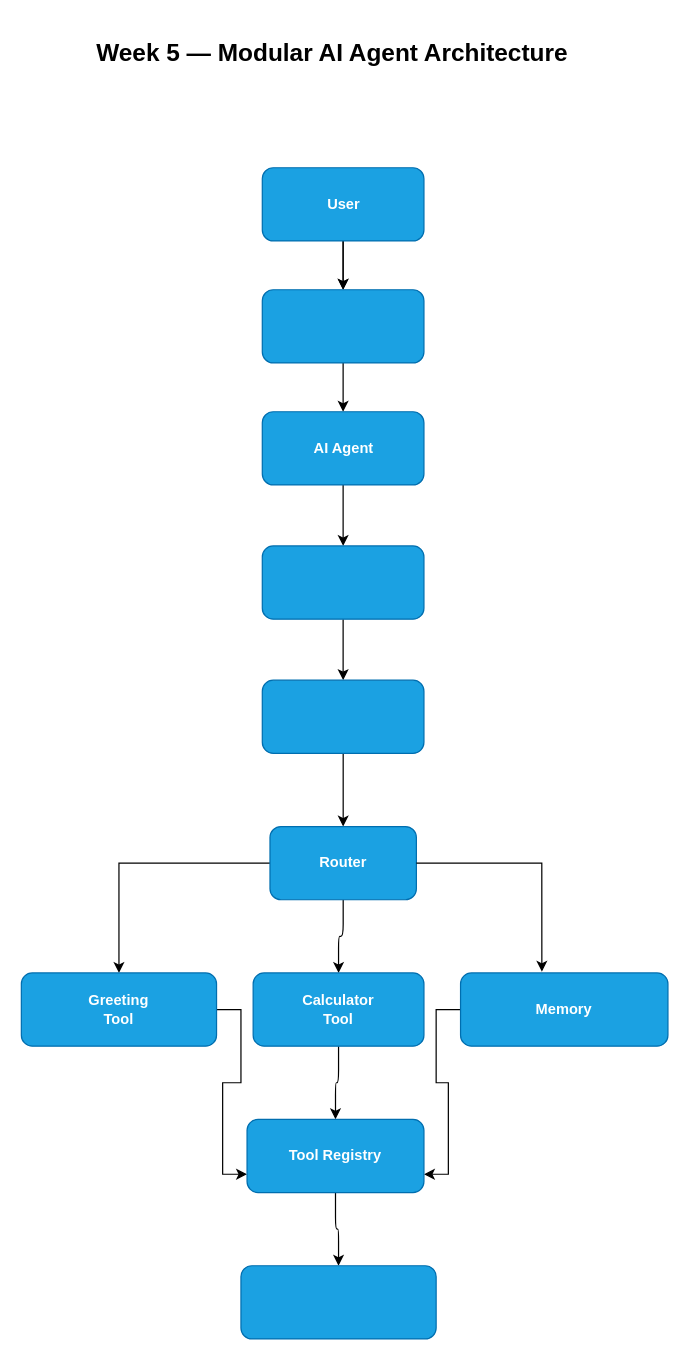
The diagram is 689 pixels wide and 1360 high, and some of its shapes have lost their labels. The shapes that lost their labels are listed below. From the top down, each one's box as (x1, y1, x2, y2) in pixels, then its label:
(261, 289, 424, 363): FastAPI API
(261, 545, 424, 619): Agent Loop
(261, 679, 424, 753): Planner
(240, 1265, 436, 1339): Hugging Face LLM
